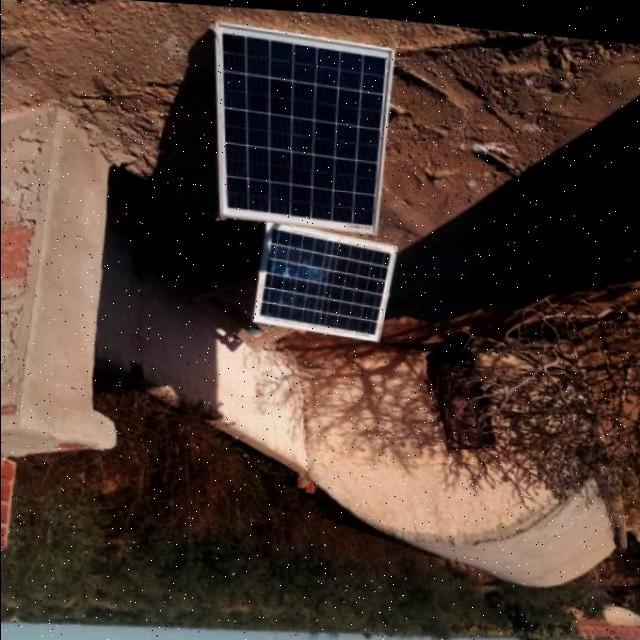Normal Solar Panel: (212, 18, 406, 232)
